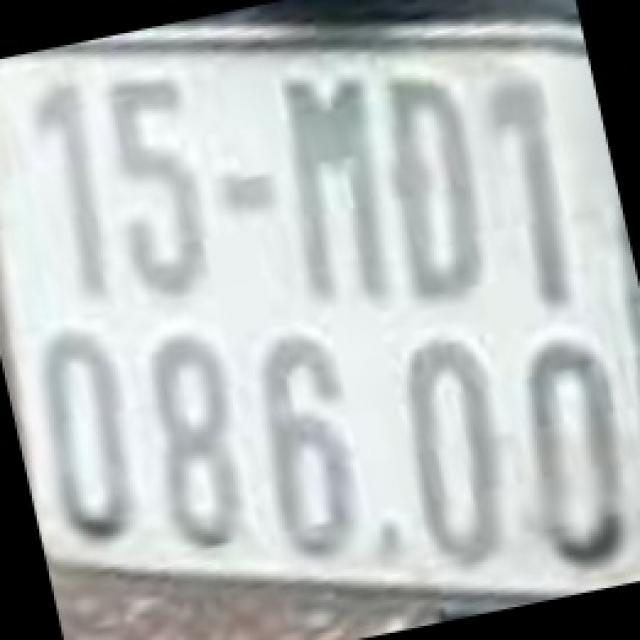0: (527, 340, 628, 566), (407, 338, 505, 569), (44, 330, 133, 540)
1: (486, 75, 576, 308), (34, 82, 108, 296)
5: (110, 80, 208, 295)
6: (262, 332, 360, 558)
8: (154, 332, 243, 550)
D: (388, 76, 486, 304)
M: (281, 70, 384, 302)
